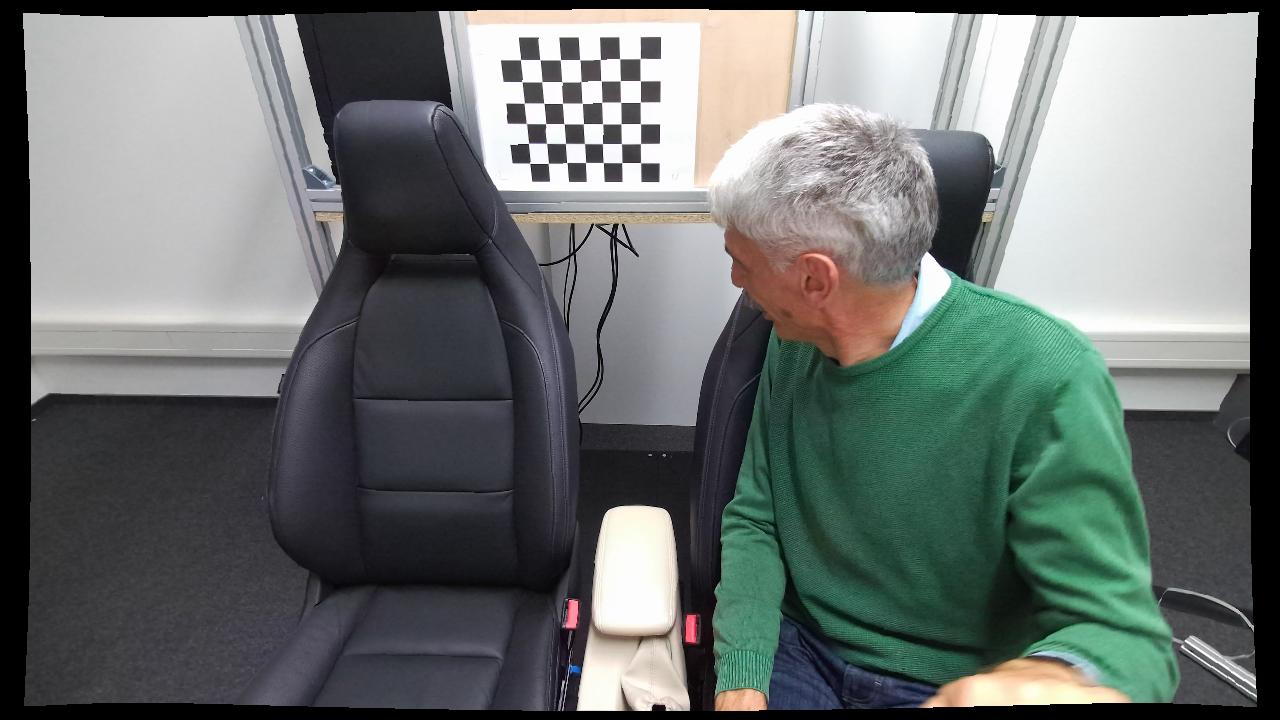Distracted: (699, 97, 1126, 706)
